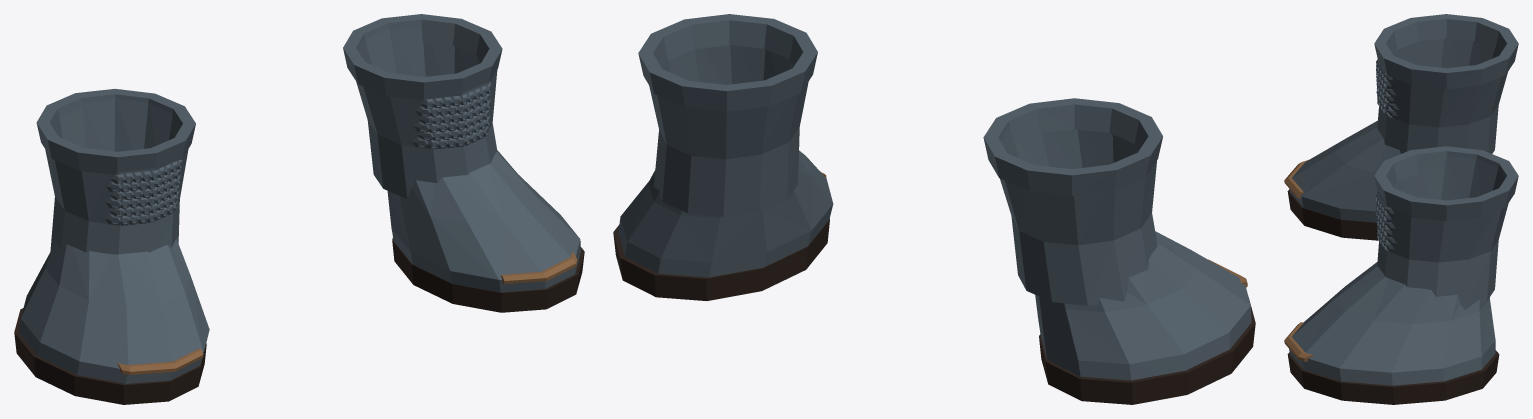
Rendered from chain_feet-female.glb.
3 views of the same model, side by side, from view 1: azimuth 30°, elevation 25°; view 2: azimuth 150°, elevation 25°; view 3: azimuth 270°, elevation 25° (orthographic). The views are drawn at different scales.
Parts seen in each view (by area): view 1: chain boot foot -1, chain boot foot 1, chain boot upper -1, chain boot upper 1, Turned boot cuff 1, Turned boot cuff -1, Boot sole -1, Boot sole 1, chain woven coverage on chain boot upper 1, chain woven coverage on chain boot upper -1, Boot toe welt -1, Boot toe welt 1; view 2: chain boot foot -1, chain boot upper -1, chain boot upper 1, chain boot foot 1, Turned boot cuff 1, Turned boot cuff -1, Boot sole -1, Boot sole 1; view 3: chain boot foot 1, chain boot upper 1, chain boot upper -1, Turned boot cuff -1, chain boot foot -1, Turned boot cuff 1, Boot sole 1, Boot sole -1, chain woven coverage on chain boot upper -1, chain woven coverage on chain boot upper 1, Boot toe welt 1, Boot toe welt -1.
Part boxes in pixels (x1=…): chain boot foot -1: x1=19, y1=238, x2=209, y2=383; chain boot foot 1: x1=387, y1=150, x2=580, y2=292; chain boot upper -1: x1=45, y1=98, x2=188, y2=254; chain boot upper 1: x1=356, y1=27, x2=497, y2=198; Turned boot cuff 1: x1=343, y1=14, x2=502, y2=100; Turned boot cuff -1: x1=36, y1=88, x2=195, y2=174; Boot sole -1: x1=14, y1=308, x2=206, y2=404; Boot sole 1: x1=392, y1=238, x2=584, y2=312; chain woven coverage on chain boot upper 1: x1=412, y1=81, x2=491, y2=149; chain woven coverage on chain boot upper -1: x1=104, y1=159, x2=182, y2=225; Boot toe welt -1: x1=117, y1=348, x2=203, y2=374; Boot toe welt 1: x1=500, y1=252, x2=577, y2=284; chain boot foot -1: x1=1035, y1=231, x2=1251, y2=380; chain boot upper -1: x1=1000, y1=126, x2=1157, y2=305; chain boot upper 1: x1=649, y1=45, x2=808, y2=216; chain boot foot 1: x1=618, y1=150, x2=833, y2=277; Turned boot cuff 1: x1=638, y1=14, x2=817, y2=111; Turned boot cuff -1: x1=983, y1=98, x2=1162, y2=195; Boot sole -1: x1=1039, y1=297, x2=1255, y2=404; Boot sole 1: x1=613, y1=218, x2=829, y2=300; chain boot foot 1: x1=1289, y1=262, x2=1495, y2=385; chain boot upper 1: x1=1377, y1=155, x2=1508, y2=309; chain boot upper -1: x1=1377, y1=38, x2=1507, y2=153; Turned boot cuff -1: x1=1374, y1=14, x2=1518, y2=89; chain boot foot -1: x1=1289, y1=120, x2=1400, y2=222; Turned boot cuff 1: x1=1374, y1=146, x2=1518, y2=221; Boot sole 1: x1=1287, y1=350, x2=1499, y2=404; Boot sole -1: x1=1287, y1=189, x2=1378, y2=240; chain woven coverage on chain boot upper -1: x1=1376, y1=59, x2=1399, y2=119; chain woven coverage on chain boot upper 1: x1=1375, y1=192, x2=1396, y2=252; Boot toe welt 1: x1=1284, y1=322, x2=1313, y2=361; Boot toe welt -1: x1=1284, y1=160, x2=1308, y2=198.
Size of the model in its own units: 2.69 by 0.9949 by 1.17.
